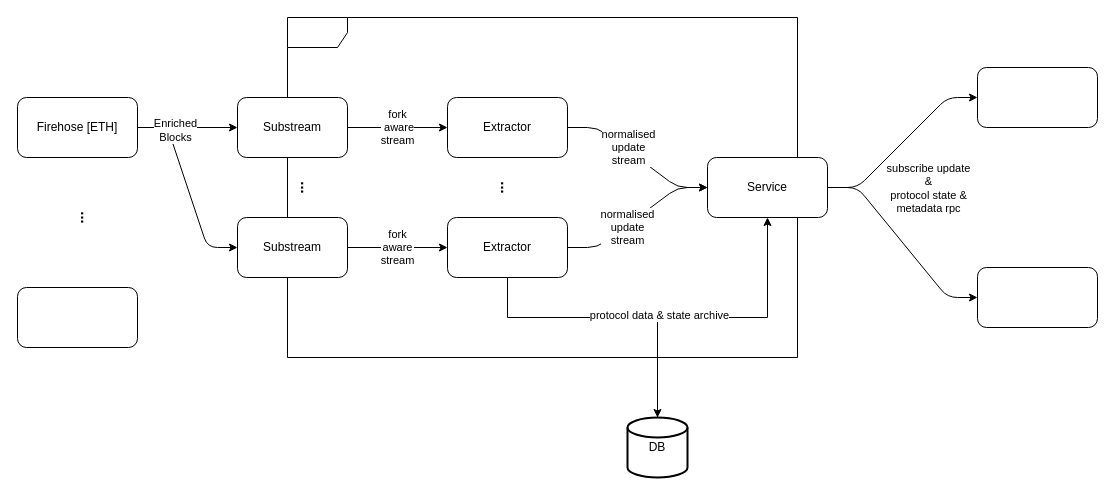
This 1115x496 diagram has some shape labels left out. The box of each missing label's shape, as (x1, y1, x2, y2) in pixels:
Backtest Client: (976, 266, 1098, 328)
Firehose [ZkSync]: (16, 286, 138, 348)
indexer: (286, 16, 798, 358)
Low Latency Client: (976, 66, 1098, 128)
